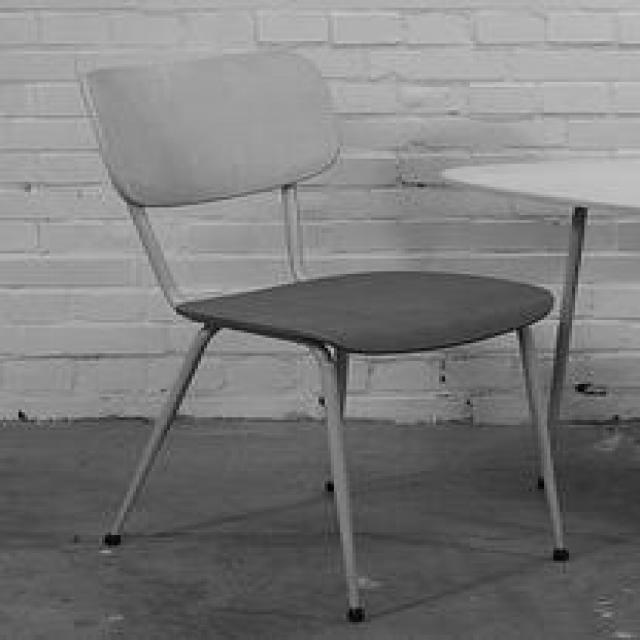chair: (72, 51, 572, 622)
